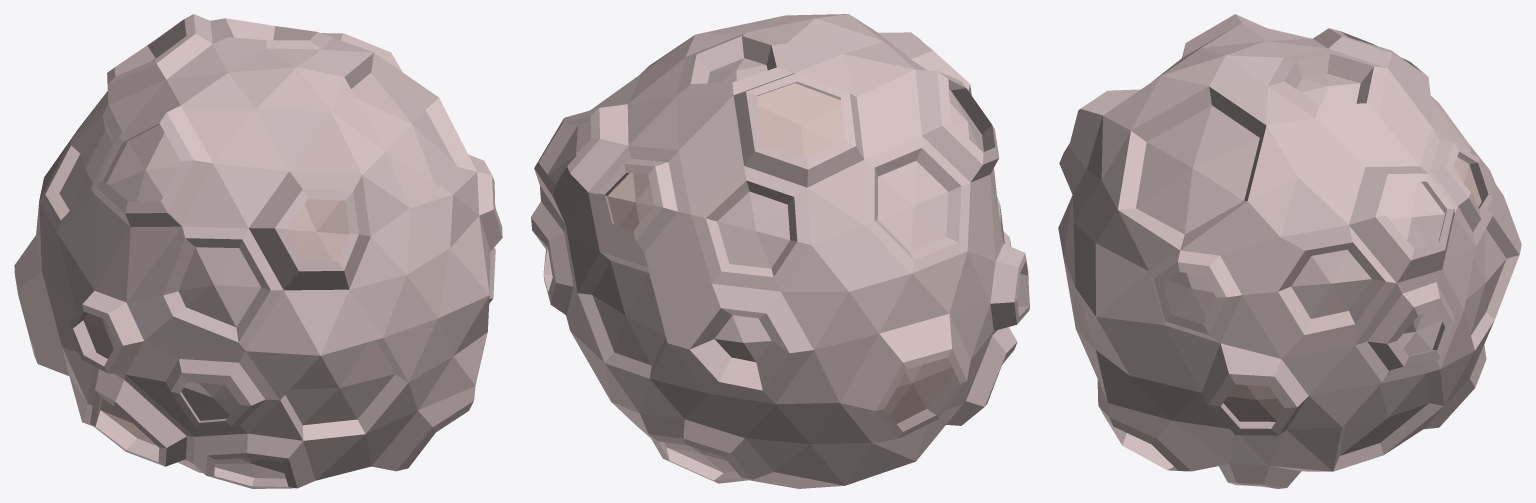
File: SM_asteroida_duza.fbx
The picture shows the model from 3 angles, left to right: view 1: azimuth 30°, elevation 25°; view 2: azimuth 150°, elevation 25°; view 3: azimuth 270°, elevation 25°; orthographic projection. The views are drawn at different scales.
Visible parts, largest first — view 1: SM_asteroida_duza; view 2: SM_asteroida_duza; view 3: SM_asteroida_duza.
Boxes of the visible parts, x1,y1,x2,y2 form: SM_asteroida_duza: (14, 14, 502, 488); SM_asteroida_duza: (531, 14, 1029, 488); SM_asteroida_duza: (1058, 14, 1521, 488).
Size of the model in its own units: 1.5 by 1.41 by 1.49.
